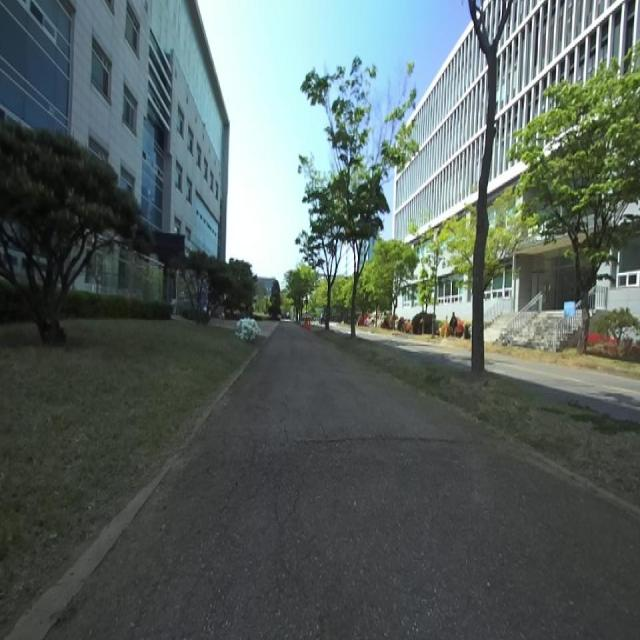sidewalk: (48, 322, 640, 639), (6, 348, 260, 640)
